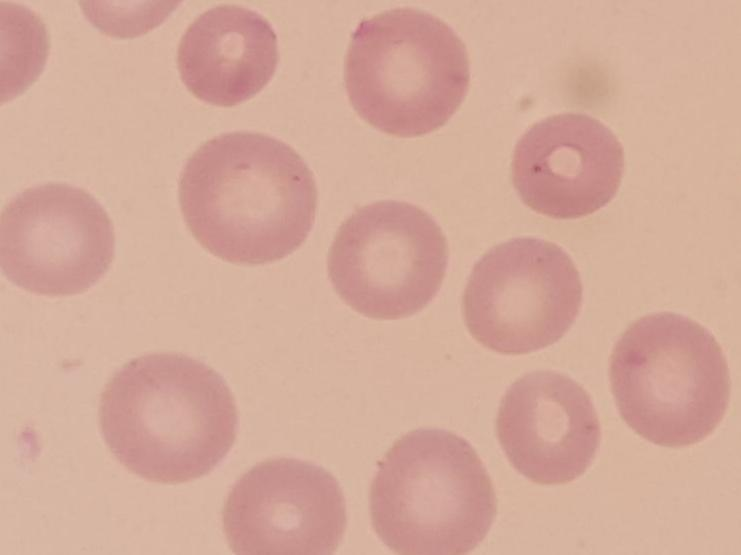Uninfected: (98, 352, 235, 481), (180, 132, 316, 260), (609, 312, 729, 446), (345, 8, 468, 133), (370, 430, 494, 552), (463, 238, 583, 353), (328, 201, 446, 316), (0, 183, 113, 293), (496, 370, 601, 483), (224, 457, 346, 554), (514, 114, 623, 219), (178, 6, 277, 106)
